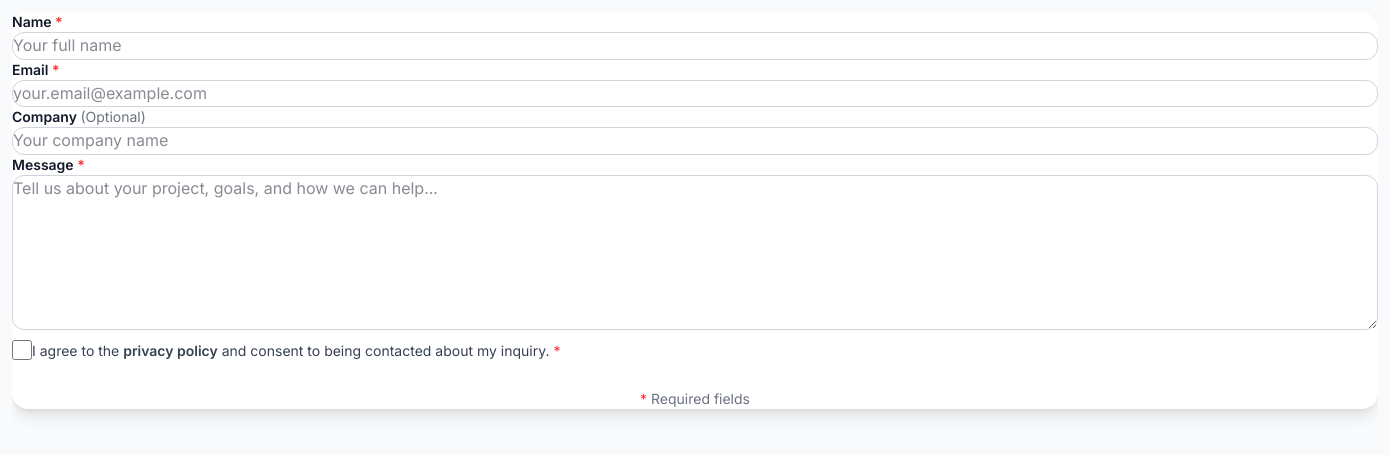
it: ContactForm › displays validation error for invalid email
This screenshot has width=1390, height=455.
Type "invalid-email" into the field labelled "Email *".
click(695, 93); type("invalid-email")  # box [12,80,1378,107]
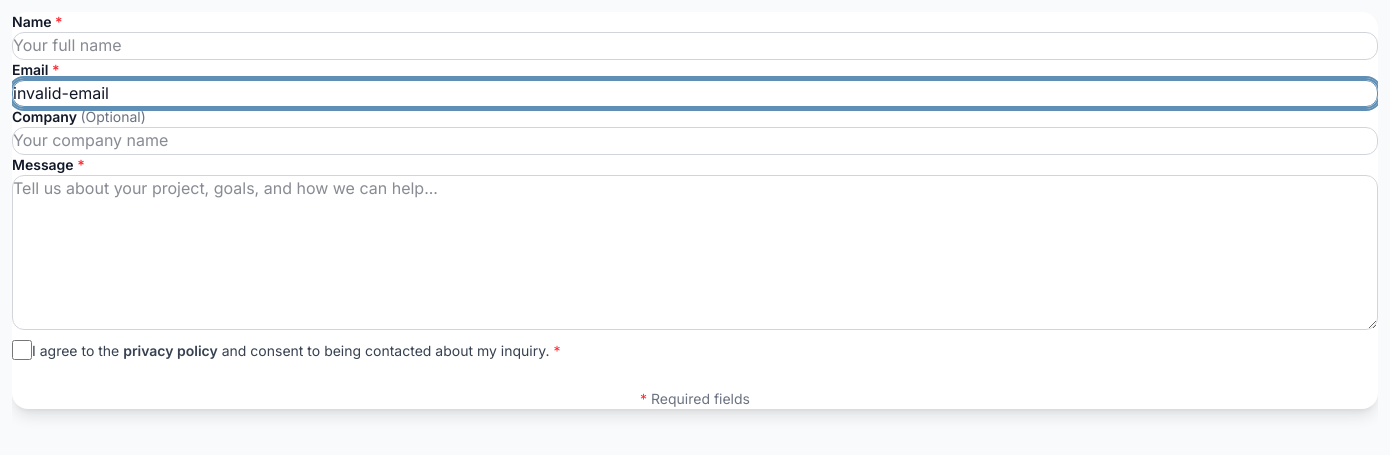
Press Tab
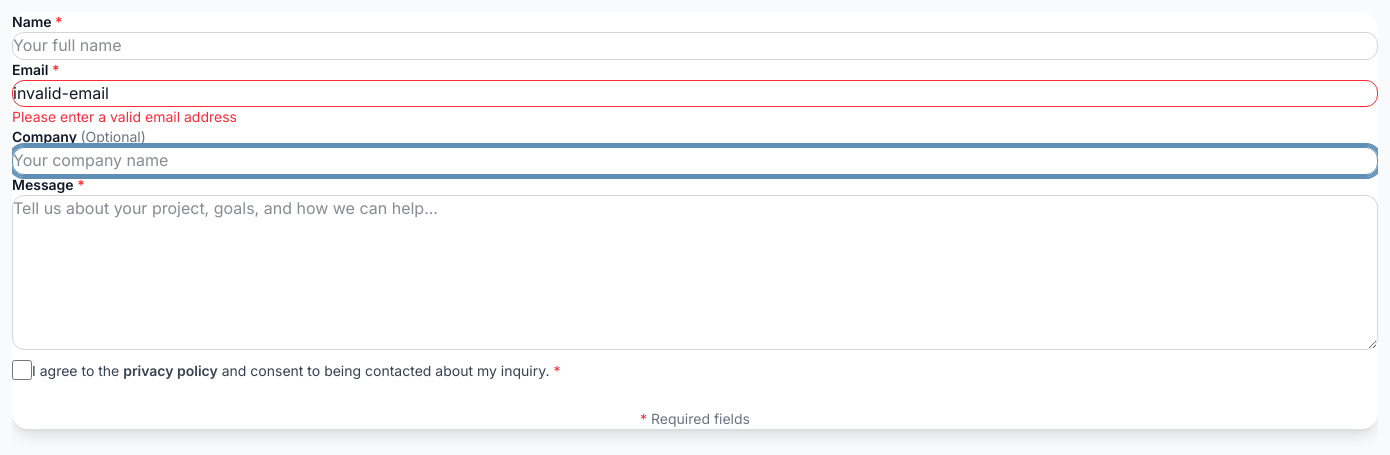
Expected: the text "Please enter a valid email address" is shown, [12,108,237,125]
